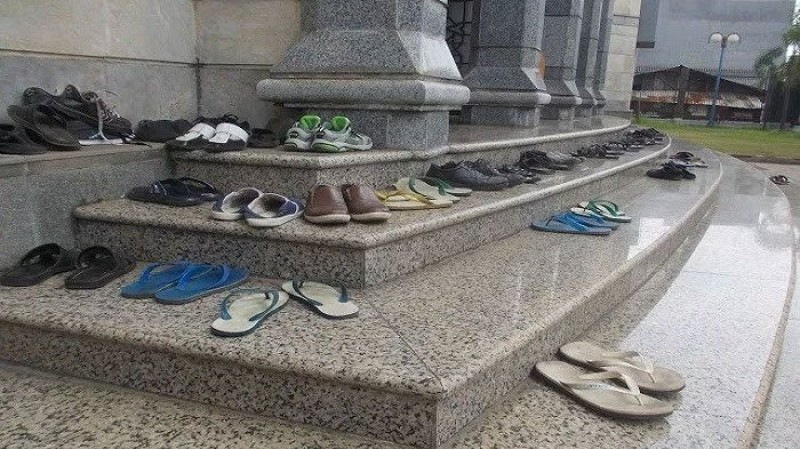sandal: (520, 334, 698, 428), (201, 267, 372, 340), (0, 218, 137, 298), (525, 188, 631, 246)
sepatu: (298, 167, 396, 238), (281, 97, 381, 162)
